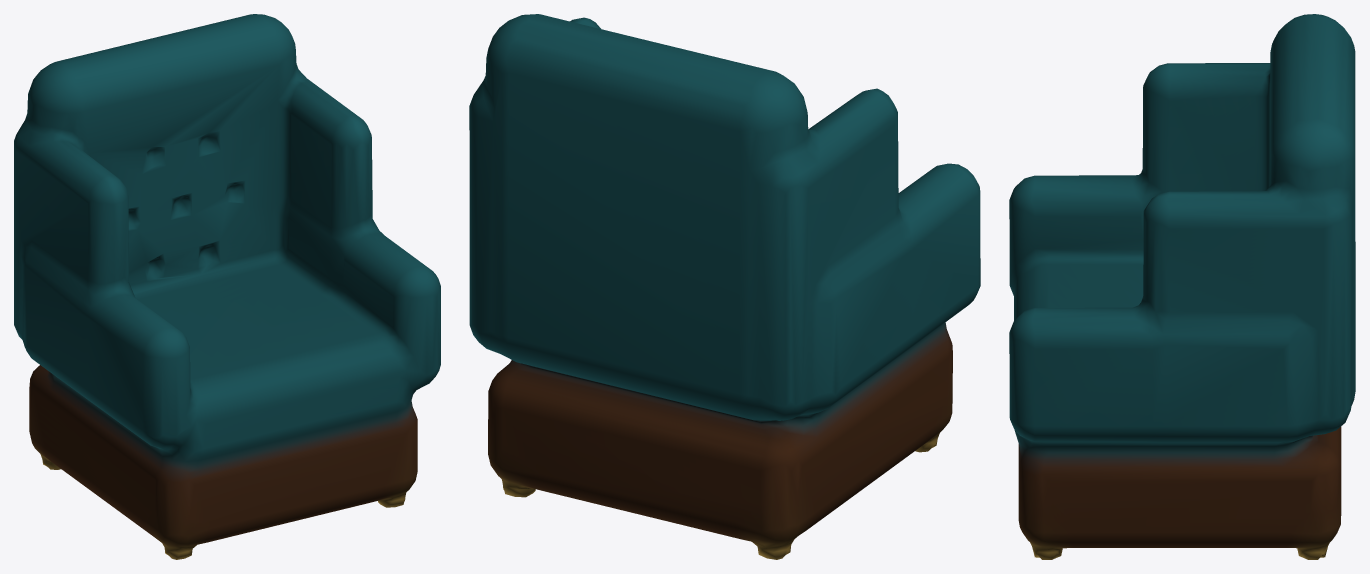
Rendered from lumiere-armchair.glb.
The picture shows the model from 3 angles, left to right: view 1: azimuth 30°, elevation 25°; view 2: azimuth 150°, elevation 25°; view 3: azimuth 270°, elevation 25°; orthographic projection. The views are drawn at different scales.
Visible parts, largest first — view 1: lumiere-armchair_LOD0; view 2: lumiere-armchair_LOD0; view 3: lumiere-armchair_LOD0.
Boxes of the visible parts, x1,y1,x2,y2 form: lumiere-armchair_LOD0: (14, 14, 440, 559); lumiere-armchair_LOD0: (469, 14, 980, 559); lumiere-armchair_LOD0: (1009, 14, 1355, 559).
Size of what is drawn, in the model's own units: 0.7816 by 0.9998 by 0.7293.
